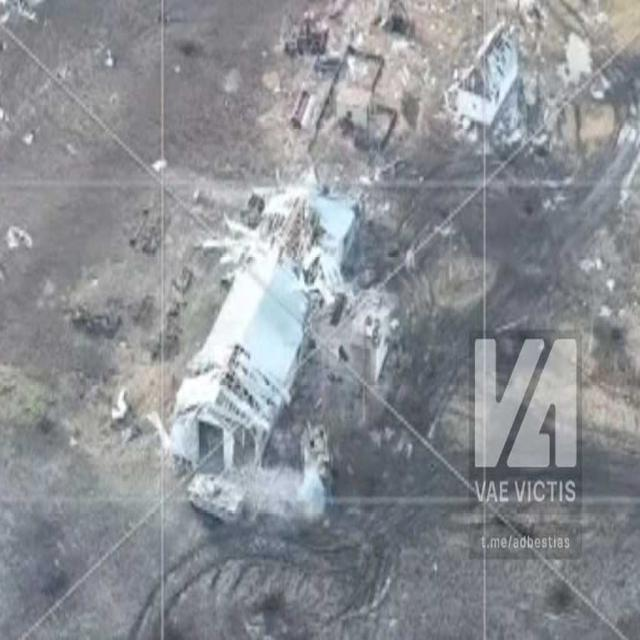apc: (186, 473, 244, 527)
cars: (298, 420, 340, 512)
